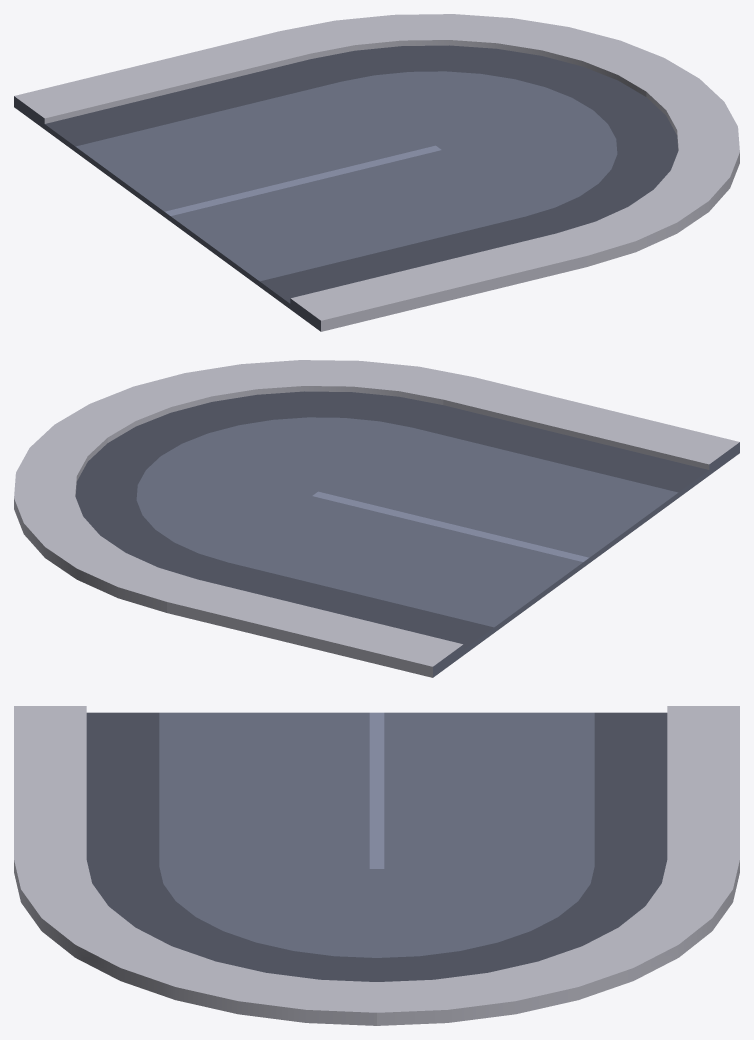
File: Road End Round.glb
The picture shows the model from 3 angles, top to bottom: view 1: azimuth 30°, elevation 25°; view 2: azimuth 150°, elevation 25°; view 3: azimuth 270°, elevation 25°; orthographic projection. The views are drawn at different scales.
Parts seen in each view (by area): view 1: road_endRound; view 2: road_endRound; view 3: road_endRound.
Part boxes in pixels (x1=…): road_endRound: x1=14, y1=14, x2=739, y2=331; road_endRound: x1=14, y1=360, x2=739, y2=677; road_endRound: x1=14, y1=706, x2=739, y2=1025.
Bounding box in the file's own units: 1 × 0.02 × 1.
